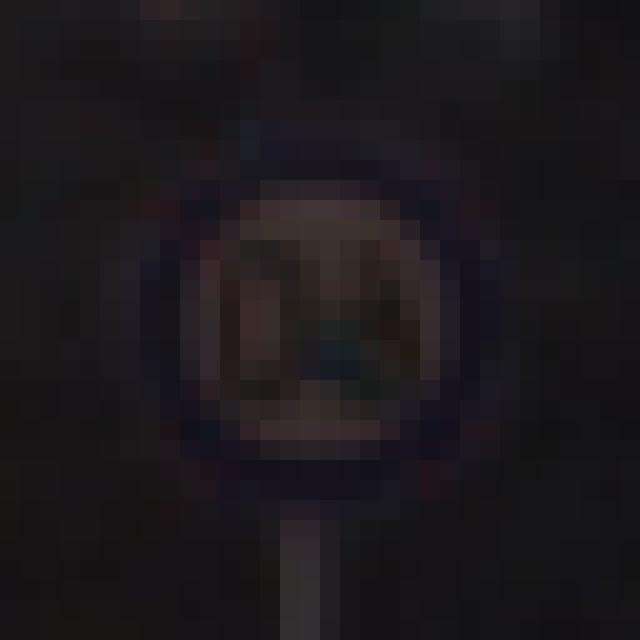SPEED-LIMIT-60: (120, 123, 513, 514)
